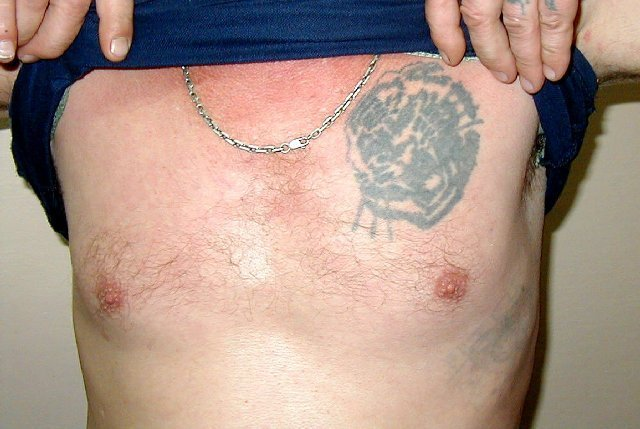tatu5_tigr: (343, 57, 483, 242)
